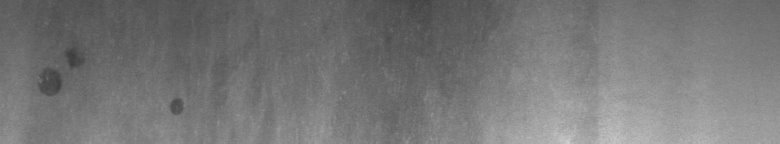fi: (162, 92, 187, 120)
